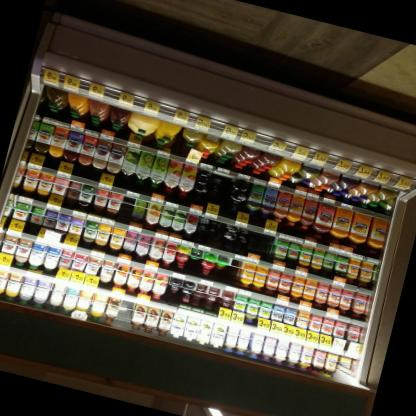empty_space: (115, 190, 139, 225)
